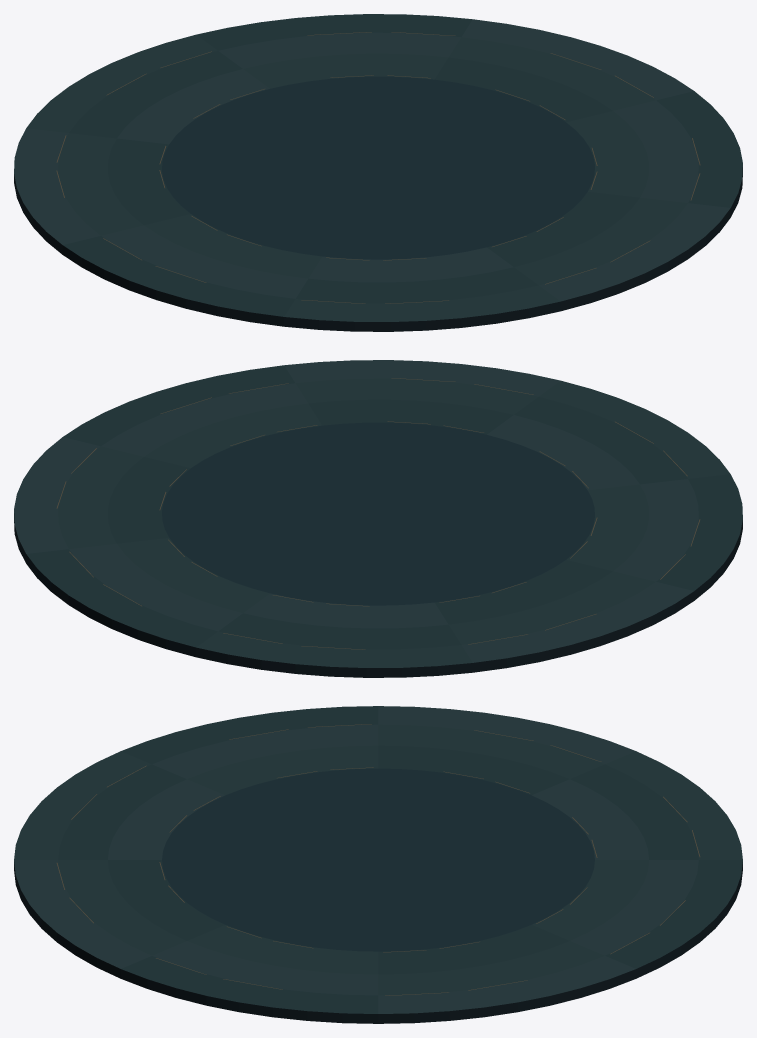
File: arena_floor.glb
3 views of the same model, one above another, from view 1: azimuth 30°, elevation 25°; view 2: azimuth 150°, elevation 25°; view 3: azimuth 270°, elevation 25° (orthographic).
Parts seen in each view (by area): view 1: body; view 2: body; view 3: body.
Part boxes in pixels (left/top/right/bottom): body: left=14, top=14, right=742, bottom=331; body: left=14, top=360, right=742, bottom=677; body: left=14, top=706, right=742, bottom=1023.
Bounding box in the file's own units: 40.4 × 0.606 × 40.4.
